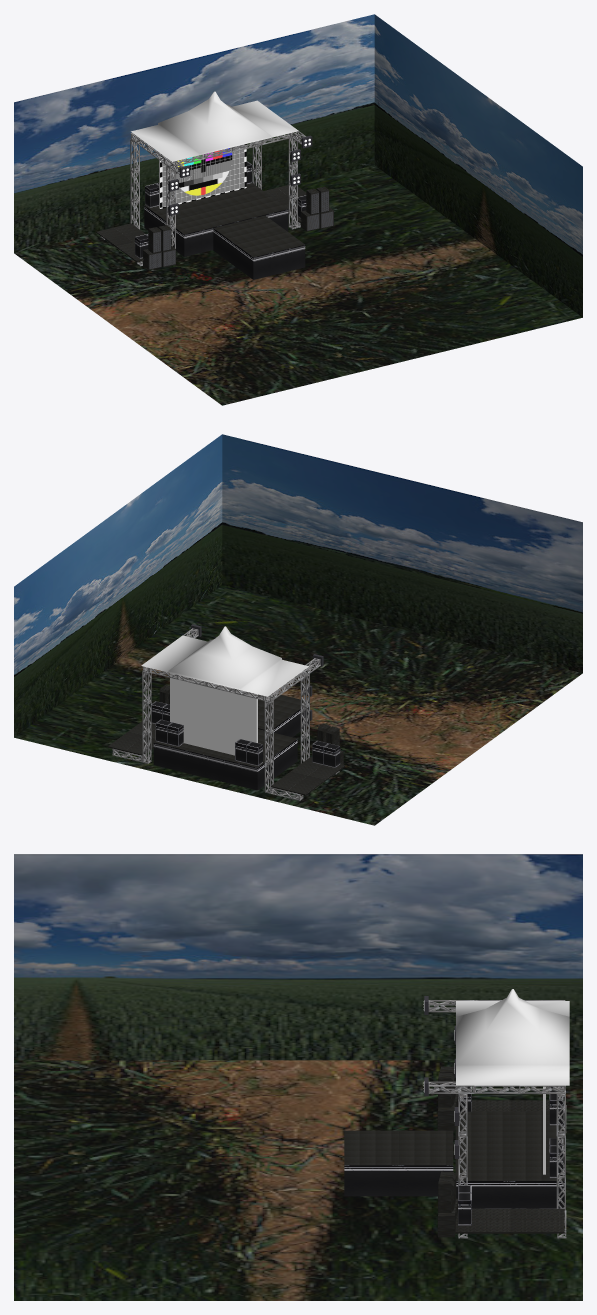
File: room_cube_field.glb
3 renders of one model, top to bottom at view 1: azimuth 30°, elevation 25°; view 2: azimuth 150°, elevation 25°; view 3: azimuth 270°, elevation 25°, orthographic. The views are drawn at different scales.
Visible parts, largest first — view 1: Cube.023, Cube, STAGEmodul, STAGEmodul.001, Philips_PM5544_(SECAM_variation), STAGEmodul.003, Cube.003, Cube.001, Cube.000, Cube.015, Cube.012, Cube.013 (+2 smaller); view 2: Cube.023, Cube, Philips_PM5544_(SECAM_variation), STAGEmodul, STAGEmodul.001, STAGEmodul.003, Cube.005, STAGEmodul.002, Cube.003, Cube.002, Hardcase.003, Hardcase.000 (+2 smaller); view 3: Cube.023, Cube, STAGEmodul, STAGEmodul.001, STAGEmodul.002, Cube.007, Cube.005, STAGEmodul.003, Cube.001, Cube.012, Hardcase.001.
Boxes of the visible parts, left/top/right/bottom form: Cube.023: left=14, top=14, right=582, bottom=405; Cube: left=131, top=91, right=298, bottom=161; STAGEmodul: left=144, top=183, right=288, bottom=256; STAGEmodul.001: left=213, top=215, right=305, bottom=279; Philips_PM5544_(SECAM_variation): left=159, top=144, right=246, bottom=208; STAGEmodul.003: left=96, top=223, right=145, bottom=262; Cube.003: left=130, top=138, right=139, bottom=229; Cube.001: left=288, top=134, right=297, bottom=229; Cube.000: left=173, top=133, right=291, bottom=164; Cube.015: left=148, top=225, right=171, bottom=253; Cube.012: left=306, top=186, right=329, bottom=214; Cube.013: left=300, top=207, right=333, bottom=231; Cube.023: left=14, top=434, right=582, bottom=825; Cube: left=141, top=626, right=308, bottom=696; Philips_PM5544_(SECAM_variation): left=170, top=673, right=257, bottom=755; STAGEmodul: left=153, top=729, right=297, bottom=790; STAGEmodul.001: left=258, top=693, right=308, bottom=737; STAGEmodul.003: left=271, top=757, right=345, bottom=795; Cube.005: left=142, top=670, right=151, bottom=763; STAGEmodul.002: left=108, top=717, right=155, bottom=755; Cube.003: left=264, top=699, right=273, bottom=793; Cube.002: left=300, top=673, right=309, bottom=763; Hardcase.003: left=155, top=719, right=183, bottom=746; Hardcase.000: left=312, top=740, right=340, bottom=767; Cube.023: left=14, top=854, right=582, bottom=1300; Cube: left=456, top=989, right=569, bottom=1085; STAGEmodul: left=455, top=1111, right=564, bottom=1208; STAGEmodul.001: left=344, top=1130, right=453, bottom=1196; STAGEmodul.002: left=455, top=1208, right=564, bottom=1233; Cube.007: left=428, top=1081, right=565, bottom=1093; Cube.005: left=556, top=1090, right=565, bottom=1217; STAGEmodul.003: left=471, top=1100, right=564, bottom=1111; Cube.001: left=458, top=1090, right=467, bottom=1185; Cube.012: left=438, top=1171, right=456, bottom=1212; Hardcase.001: left=458, top=1185, right=471, bottom=1225.
Bounding box in the file's own units: 25 × 10 × 25.
Materials: 9 (6 with a texture image).
